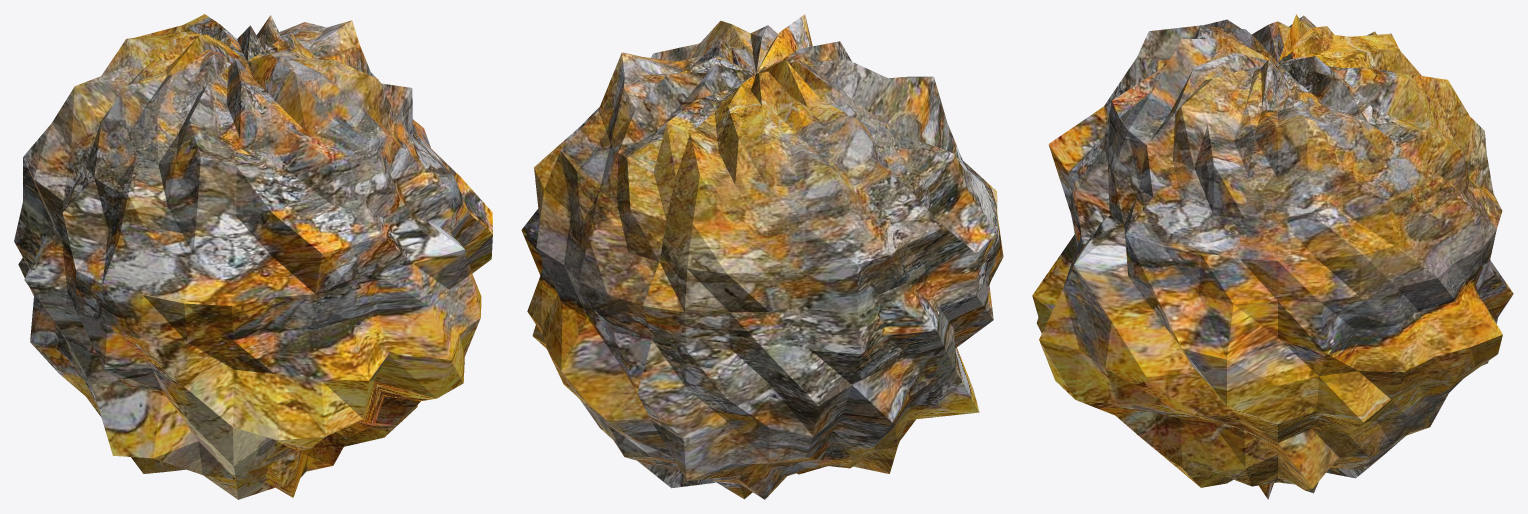
Rendered from Chalcopyrite_01.FBX.
The picture shows the model from 3 angles, left to right: view 1: azimuth 30°, elevation 25°; view 2: azimuth 150°, elevation 25°; view 3: azimuth 270°, elevation 25°; orthographic projection.
Visible parts, largest first — view 1: Sphere001; view 2: Sphere001; view 3: Sphere001.
Boxes of the visible parts, x1=… form: Sphere001: x1=14, y1=14, x2=492, y2=499; Sphere001: x1=521, y1=14, x2=1003, y2=499; Sphere001: x1=1032, y1=14, x2=1513, y2=499.
Bounding box in the file's own units: 36.37 × 36.53 × 35.71.
